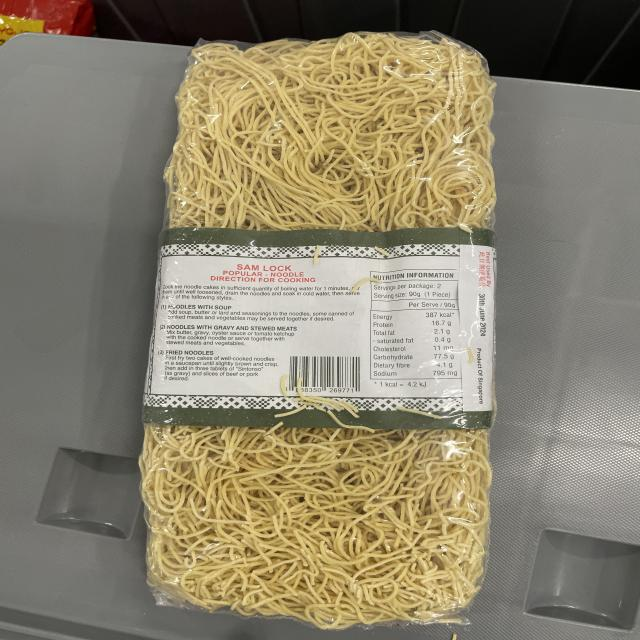object_name: (179, 43, 472, 613)
